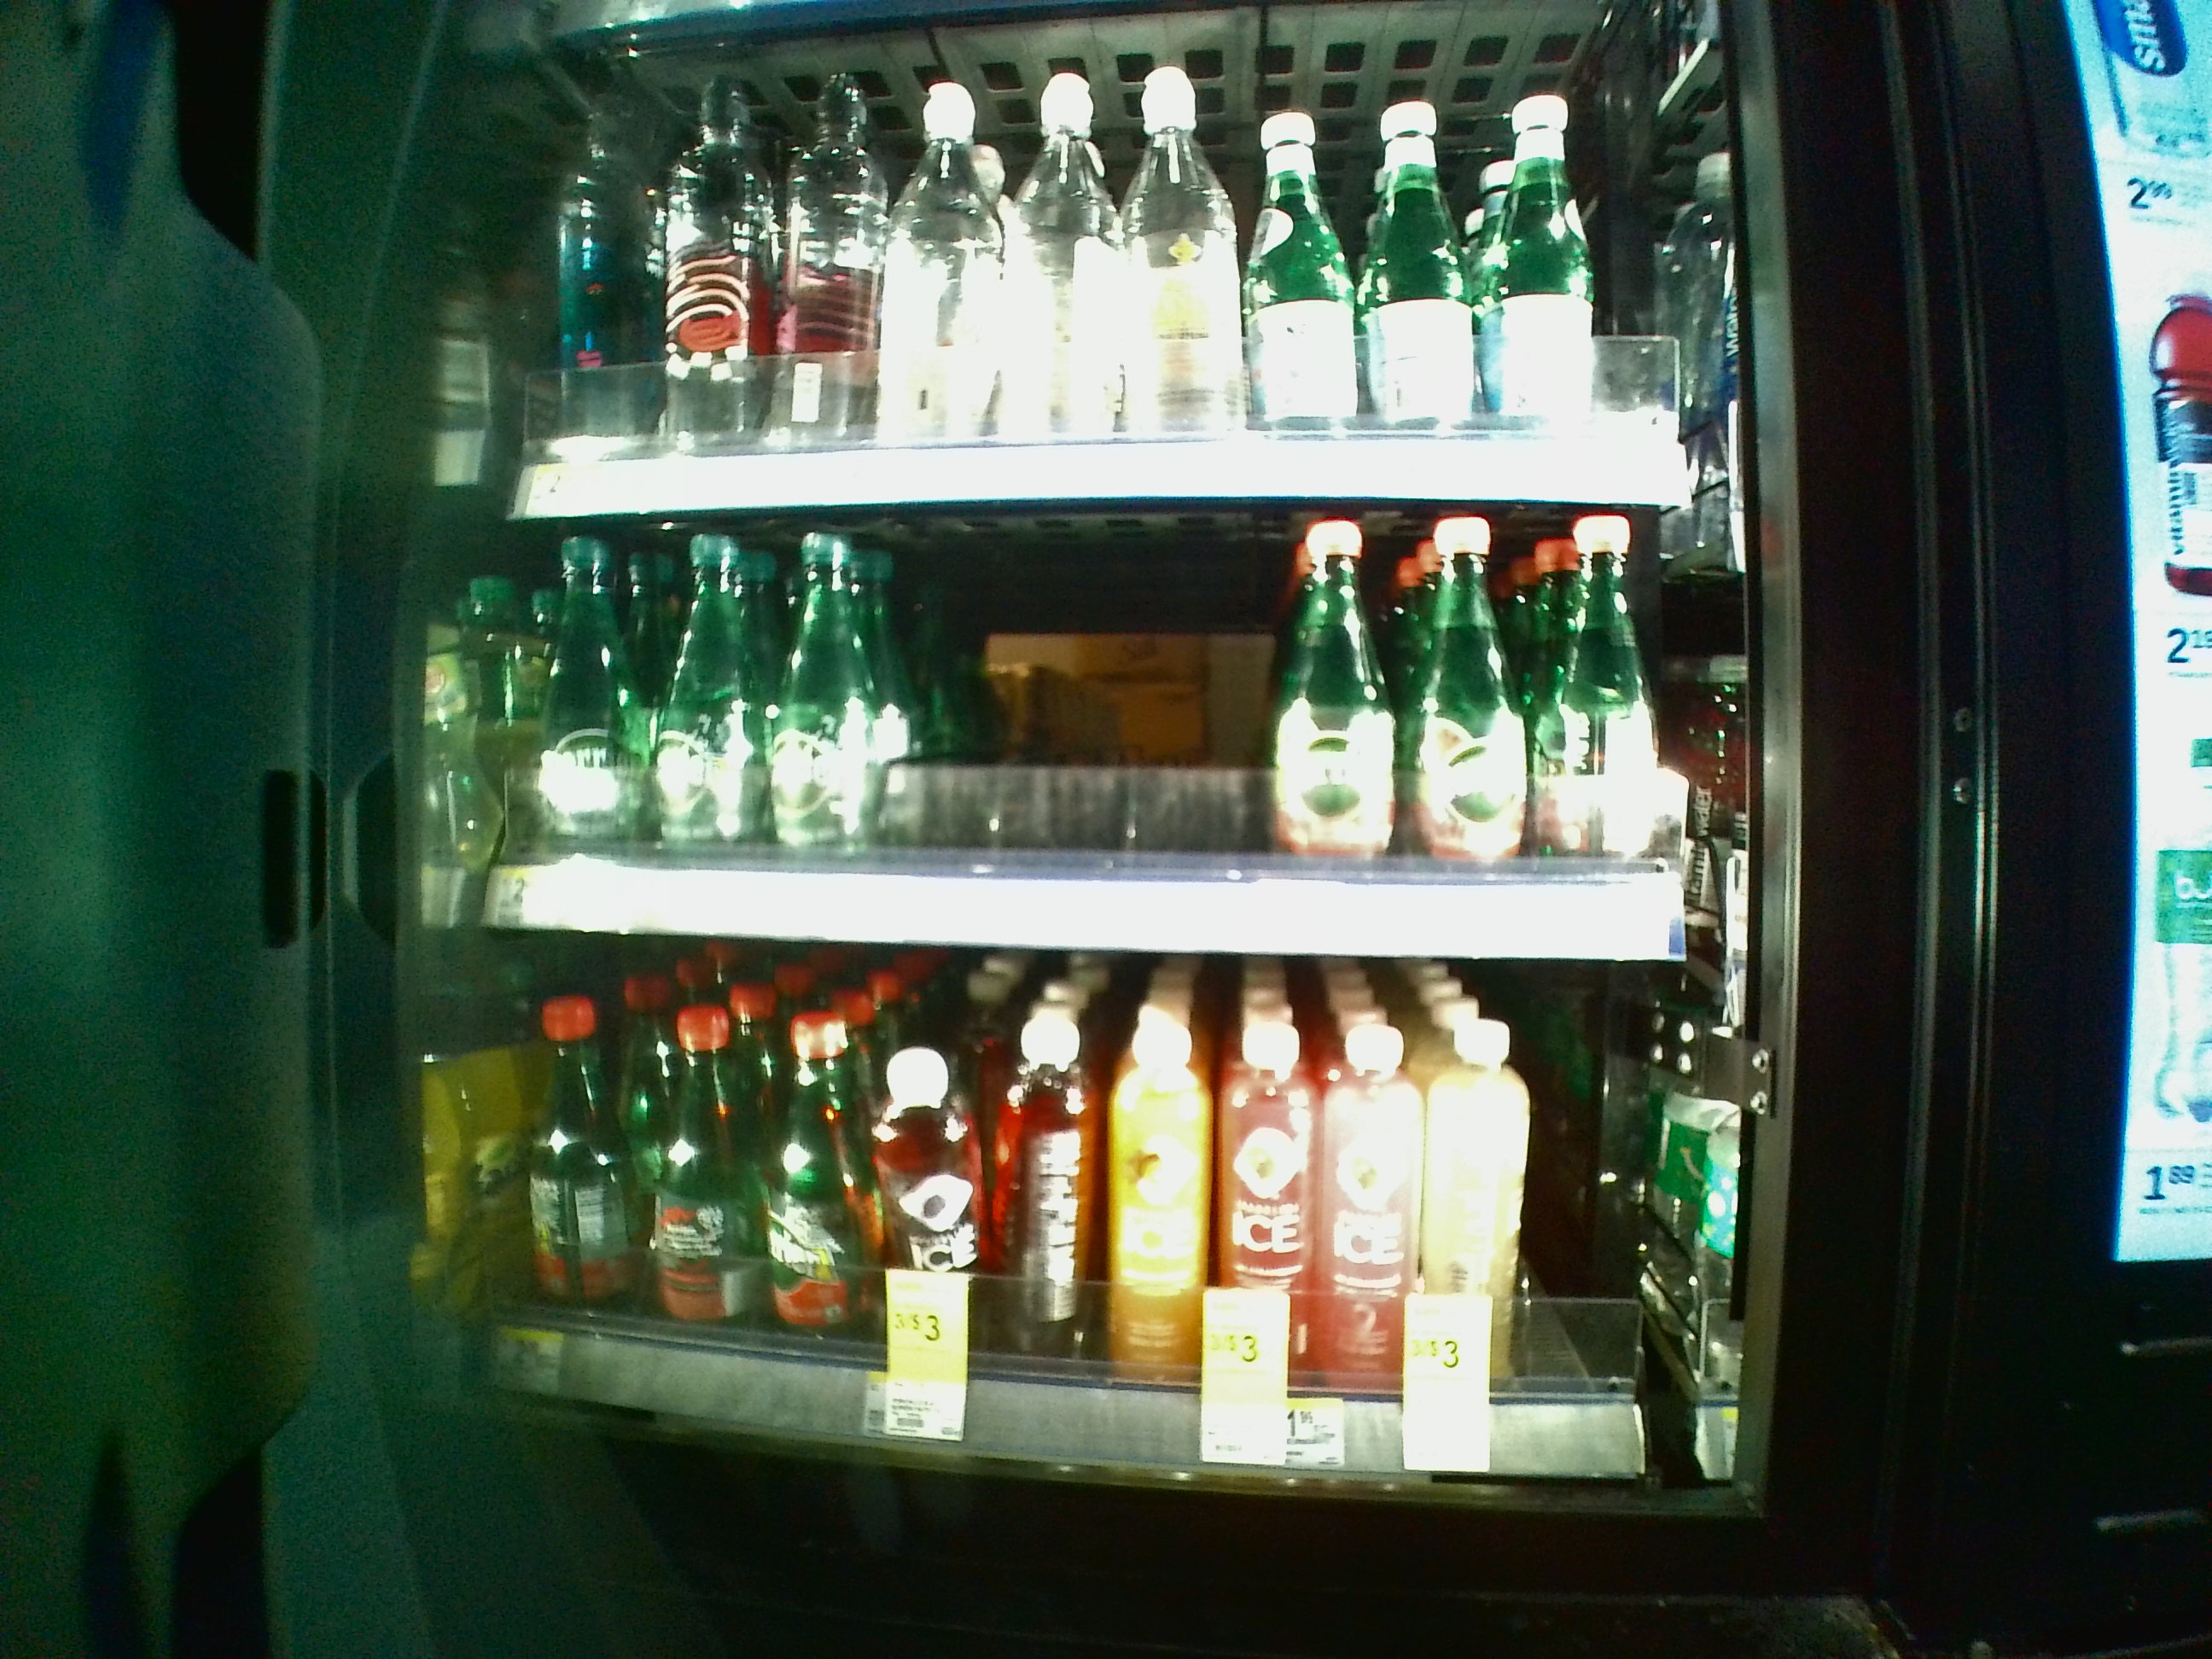shelf: (460, 964, 1730, 1480), (460, 521, 1737, 964)
